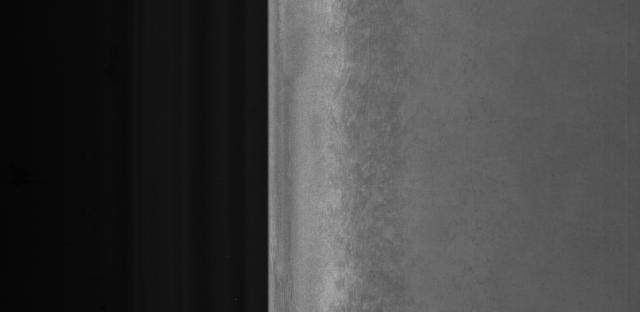silk_spot: (326, 32, 429, 288)
